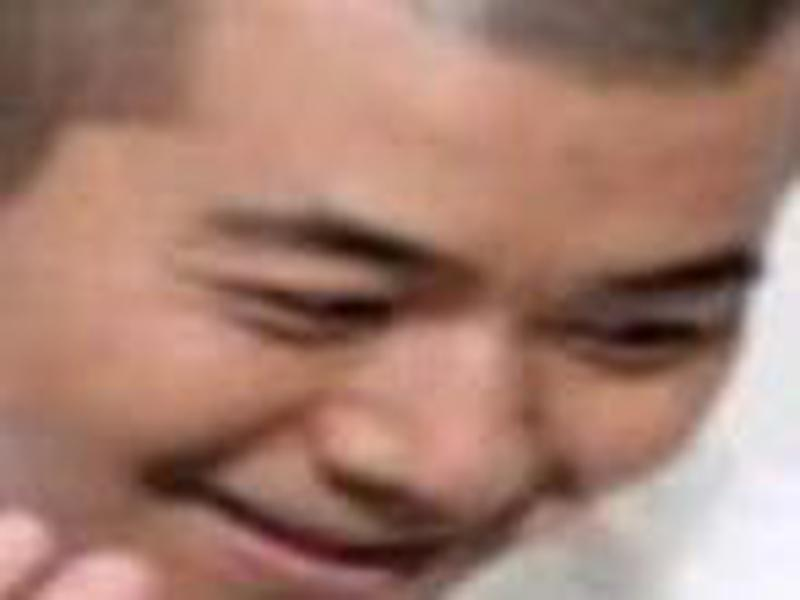without_mask: (14, 16, 800, 600)
